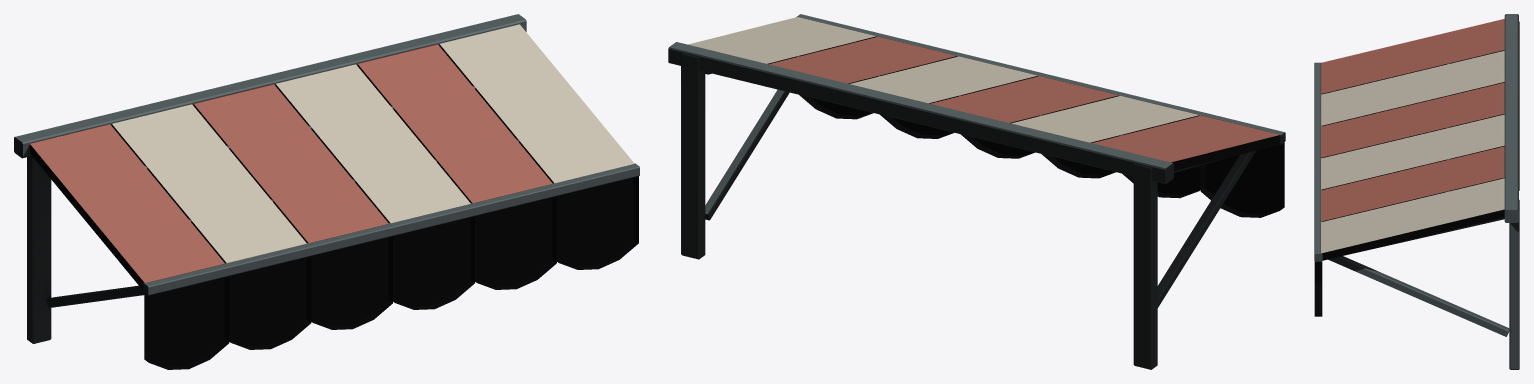
File: 0-20261016-1900-ev068-r12-town-awning_baked.glb
3 views of the same model, side by side, from view 1: azimuth 30°, elevation 25°; view 2: azimuth 150°, elevation 25°; view 3: azimuth 270°, elevation 25° (orthographic). The views are drawn at different scales.
Parts seen in each view (by area): view 1: SW_Town_Awning; view 2: SW_Town_Awning; view 3: SW_Town_Awning.
Boxes of the visible parts, x1,y1,x2,y2 form: SW_Town_Awning: (14,14,639,369); SW_Town_Awning: (668,14,1285,369); SW_Town_Awning: (1314,14,1519,369).
Size of the model in its own units: 2.46 by 0.9675 by 1.09.
1 material, 1 textured.
